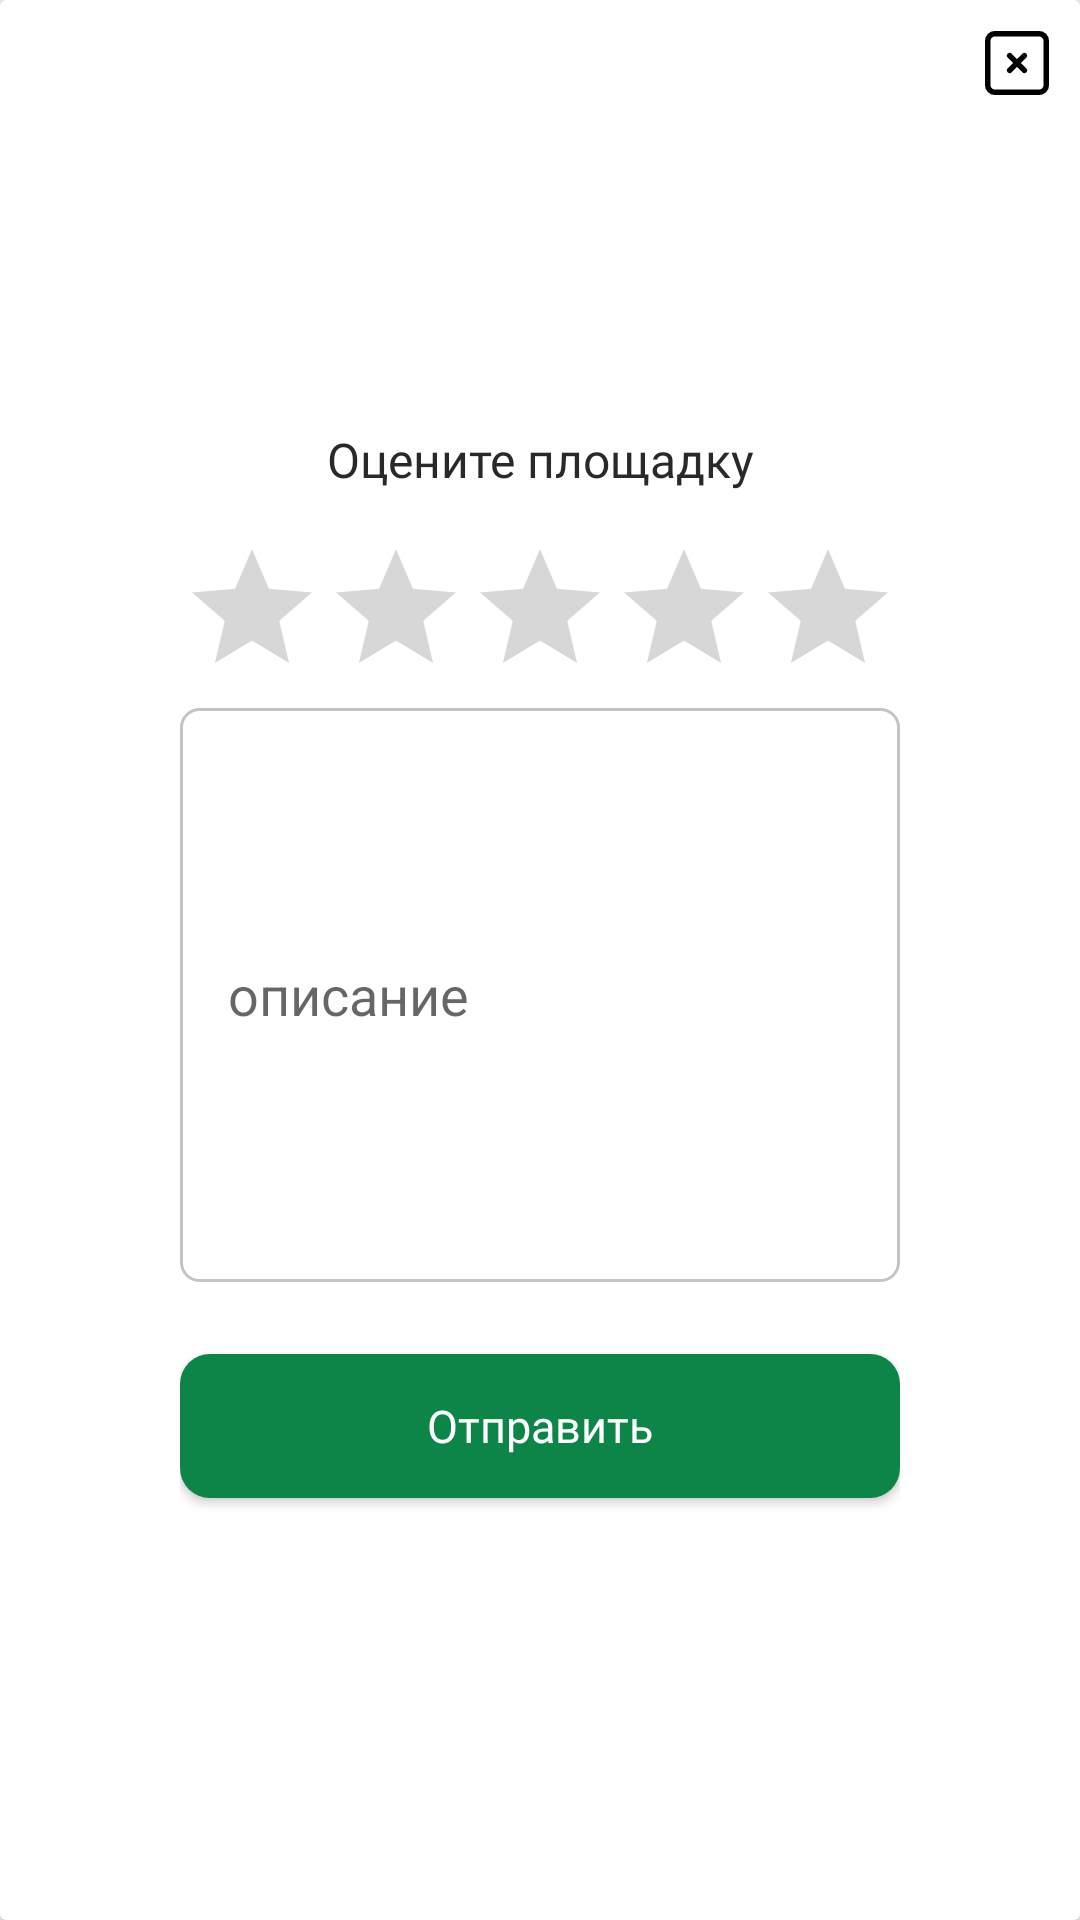

Icon bounding boxes for this 1080*1920 phone screenshot, format region(x1, y1, x2, y2):
exit: region(985, 31, 1049, 95)
